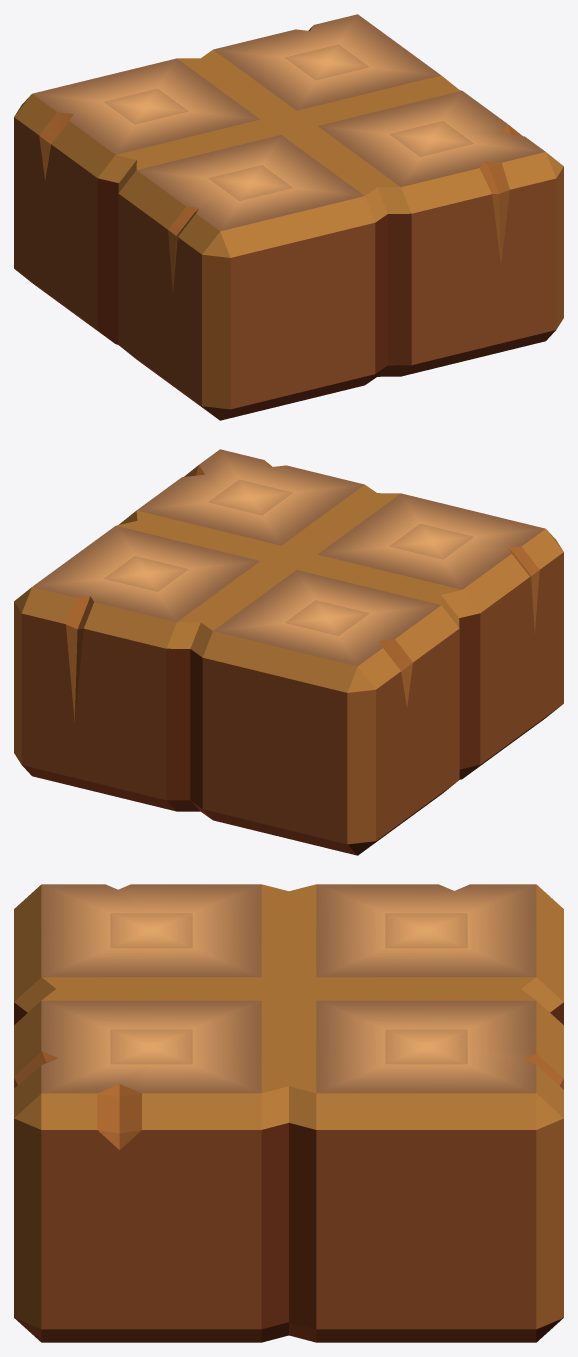
Rendered from m_kub_wood_cubeSmall.FBX.
3 views of the same model, one above another, from view 1: azimuth 30°, elevation 25°; view 2: azimuth 150°, elevation 25°; view 3: azimuth 270°, elevation 25° (orthographic). The views are drawn at different scales.
Parts seen in each view (by area): view 1: m_kub_wood_cubeSmall; view 2: m_kub_wood_cubeSmall; view 3: m_kub_wood_cubeSmall.
Part boxes in pixels (x1,y1,x2,y2): m_kub_wood_cubeSmall: (14, 14, 563, 420); m_kub_wood_cubeSmall: (14, 449, 563, 855); m_kub_wood_cubeSmall: (14, 884, 563, 1342).
Bounding box in the file's own units: 2 × 1 × 2.
